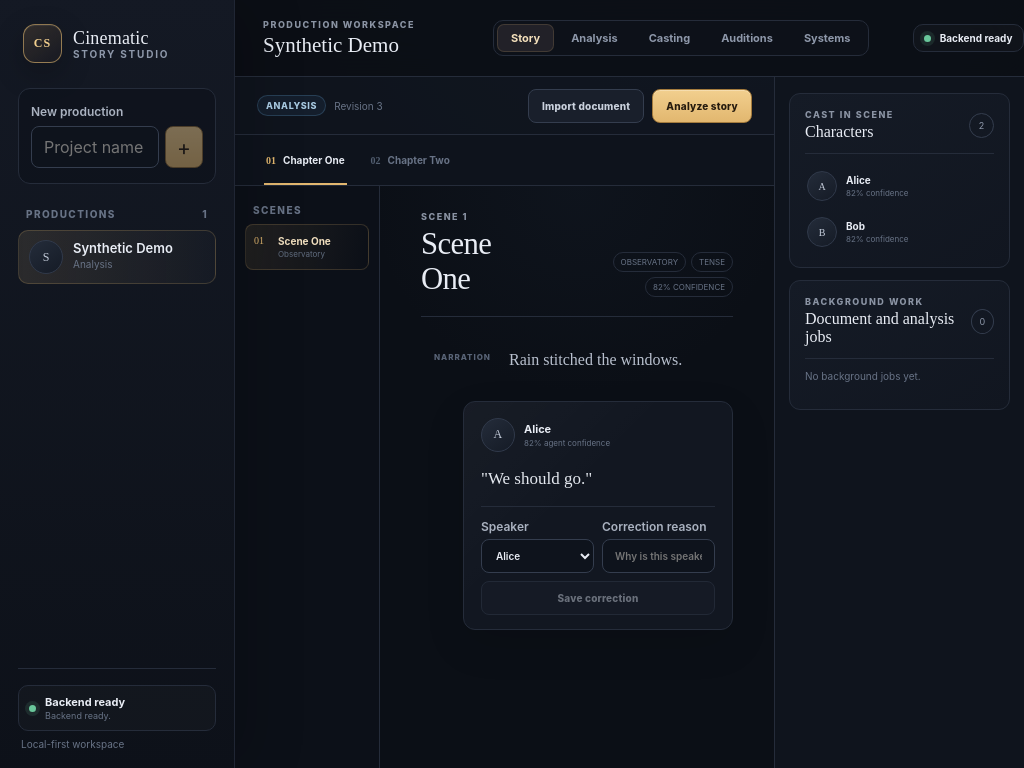
Test case: Phase 0 desktop workspace › imports a selected text story through the narrow desktop operation
The width and height of the screenshot is (1024, 768).
Check: the text "\"We should go.\"" is shown, box [481,469,592,488]
Click the button "Import document" at (586, 106), box [528,88,644,122]
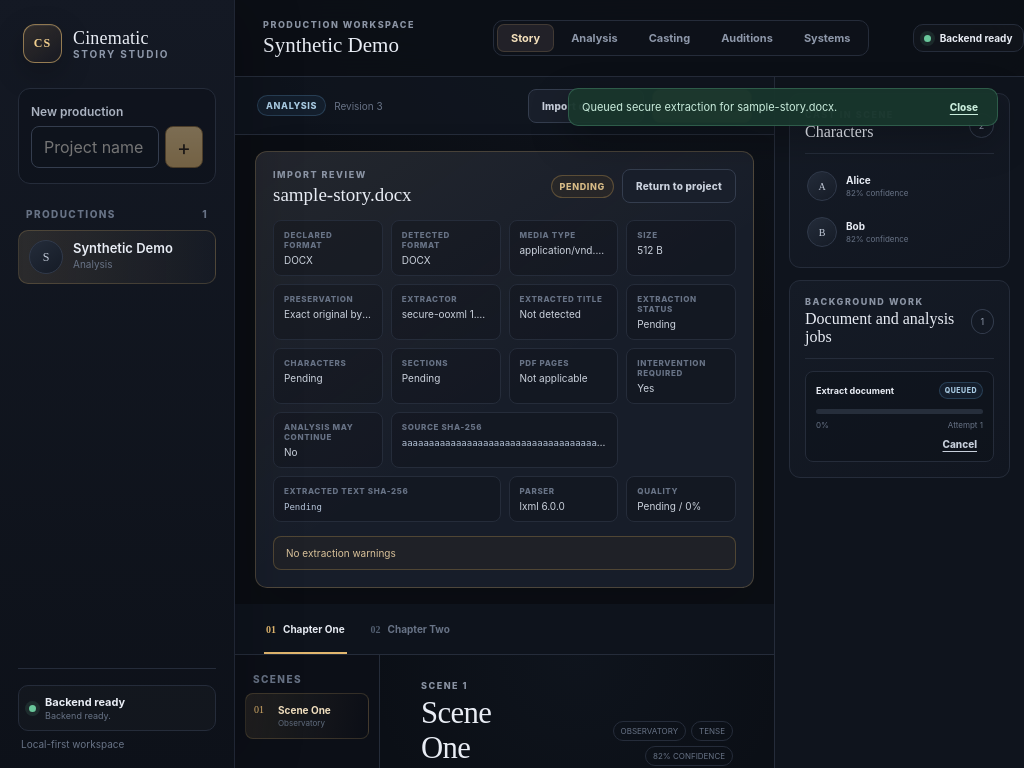
Check: the text "Queued secure extraction for sample-story.docx." is shown, box [582,100,837,114]
Check: the progress indicator named "Extract document progress" is shown, box [816,409,983,414]
